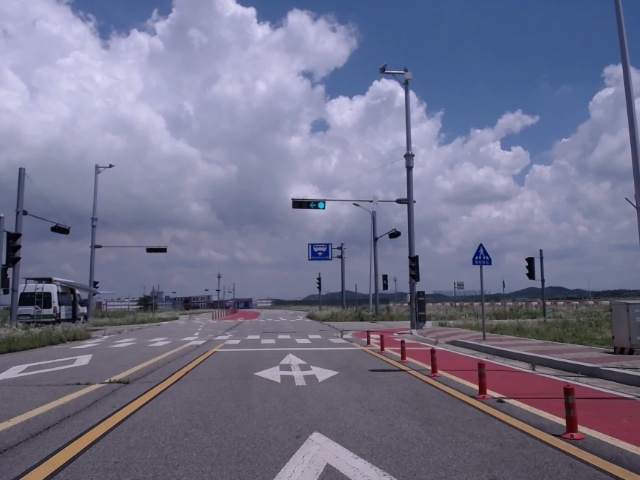all_green_4: (289, 198, 326, 210)
